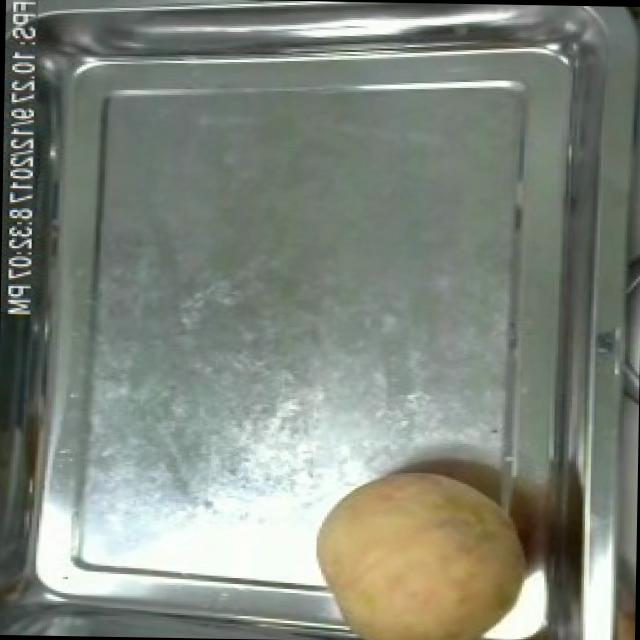Fruit: (302, 460, 538, 640)
